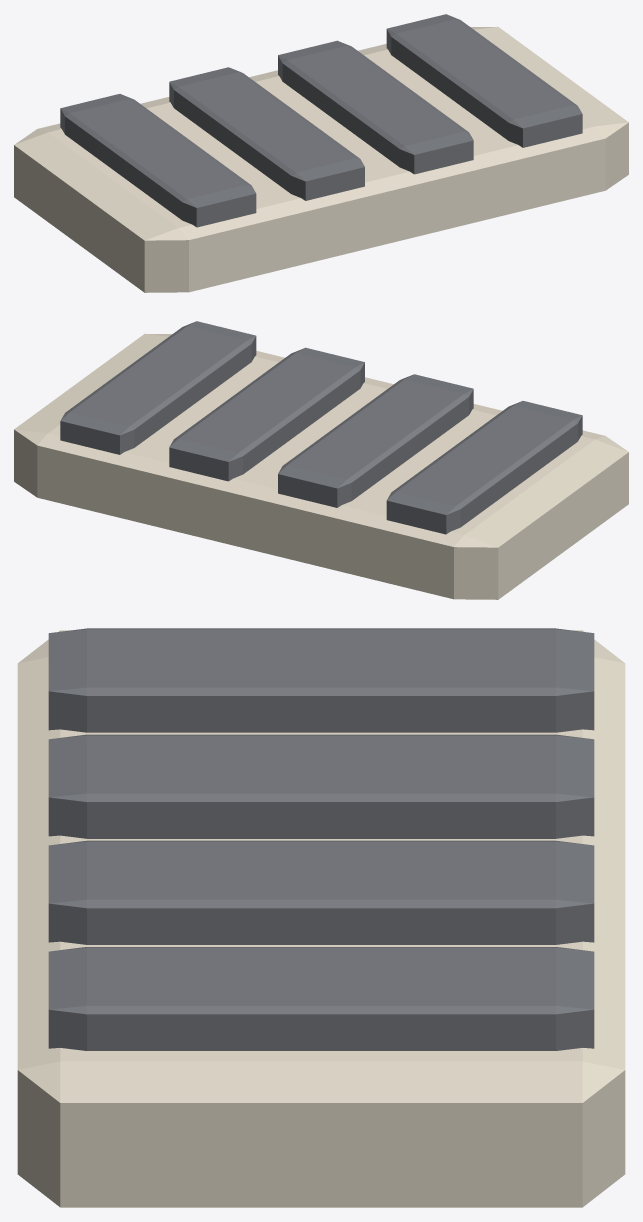
The model's file is b12_retractable_shop_awning.glb.
3 views of the same model, one above another, from view 1: azimuth 30°, elevation 25°; view 2: azimuth 150°, elevation 25°; view 3: azimuth 270°, elevation 25° (orthographic). The views are drawn at different scales.
Visible parts, largest first — view 1: b12_retractable_shop_awning; view 2: b12_retractable_shop_awning; view 3: b12_retractable_shop_awning.
Part boxes in pixels (x1=…): b12_retractable_shop_awning: x1=14, y1=14, x2=628, y2=292; b12_retractable_shop_awning: x1=14, y1=321, x2=628, y2=599; b12_retractable_shop_awning: x1=17, y1=628, x2=625, y2=1207.
Bounding box in the file's own units: 3.48 × 0.556 × 1.89.
